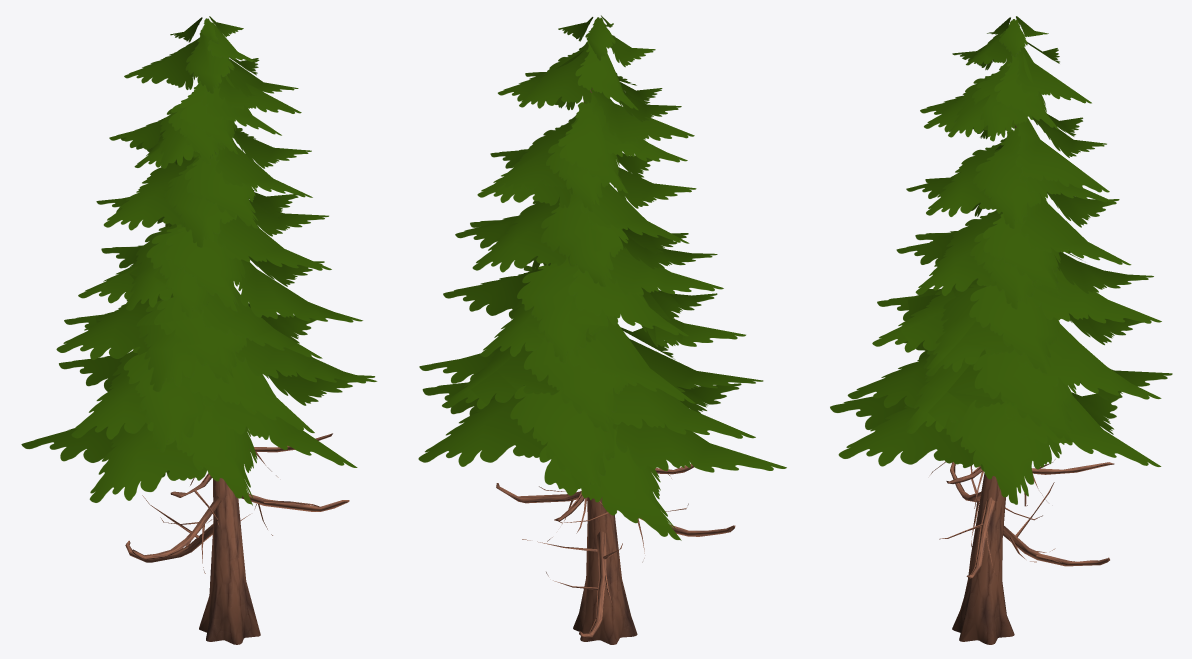
File: pine-3.glb
The picture shows the model from 3 angles, left to right: view 1: azimuth 30°, elevation 25°; view 2: azimuth 150°, elevation 25°; view 3: azimuth 270°, elevation 25°; orthographic projection. The views are drawn at different scales.
Parts seen in each view (by area): view 1: Pine_4; view 2: Pine_4; view 3: Pine_4.
Boxes of the visible parts, x1,y1,x2,y2 form: Pine_4: (21, 16, 377, 644); Pine_4: (418, 15, 786, 644); Pine_4: (830, 16, 1172, 644).
Bounding box in the file's own units: 5.8 × 10.24 × 5.37.
Materials: 2 (2 with a texture image).
